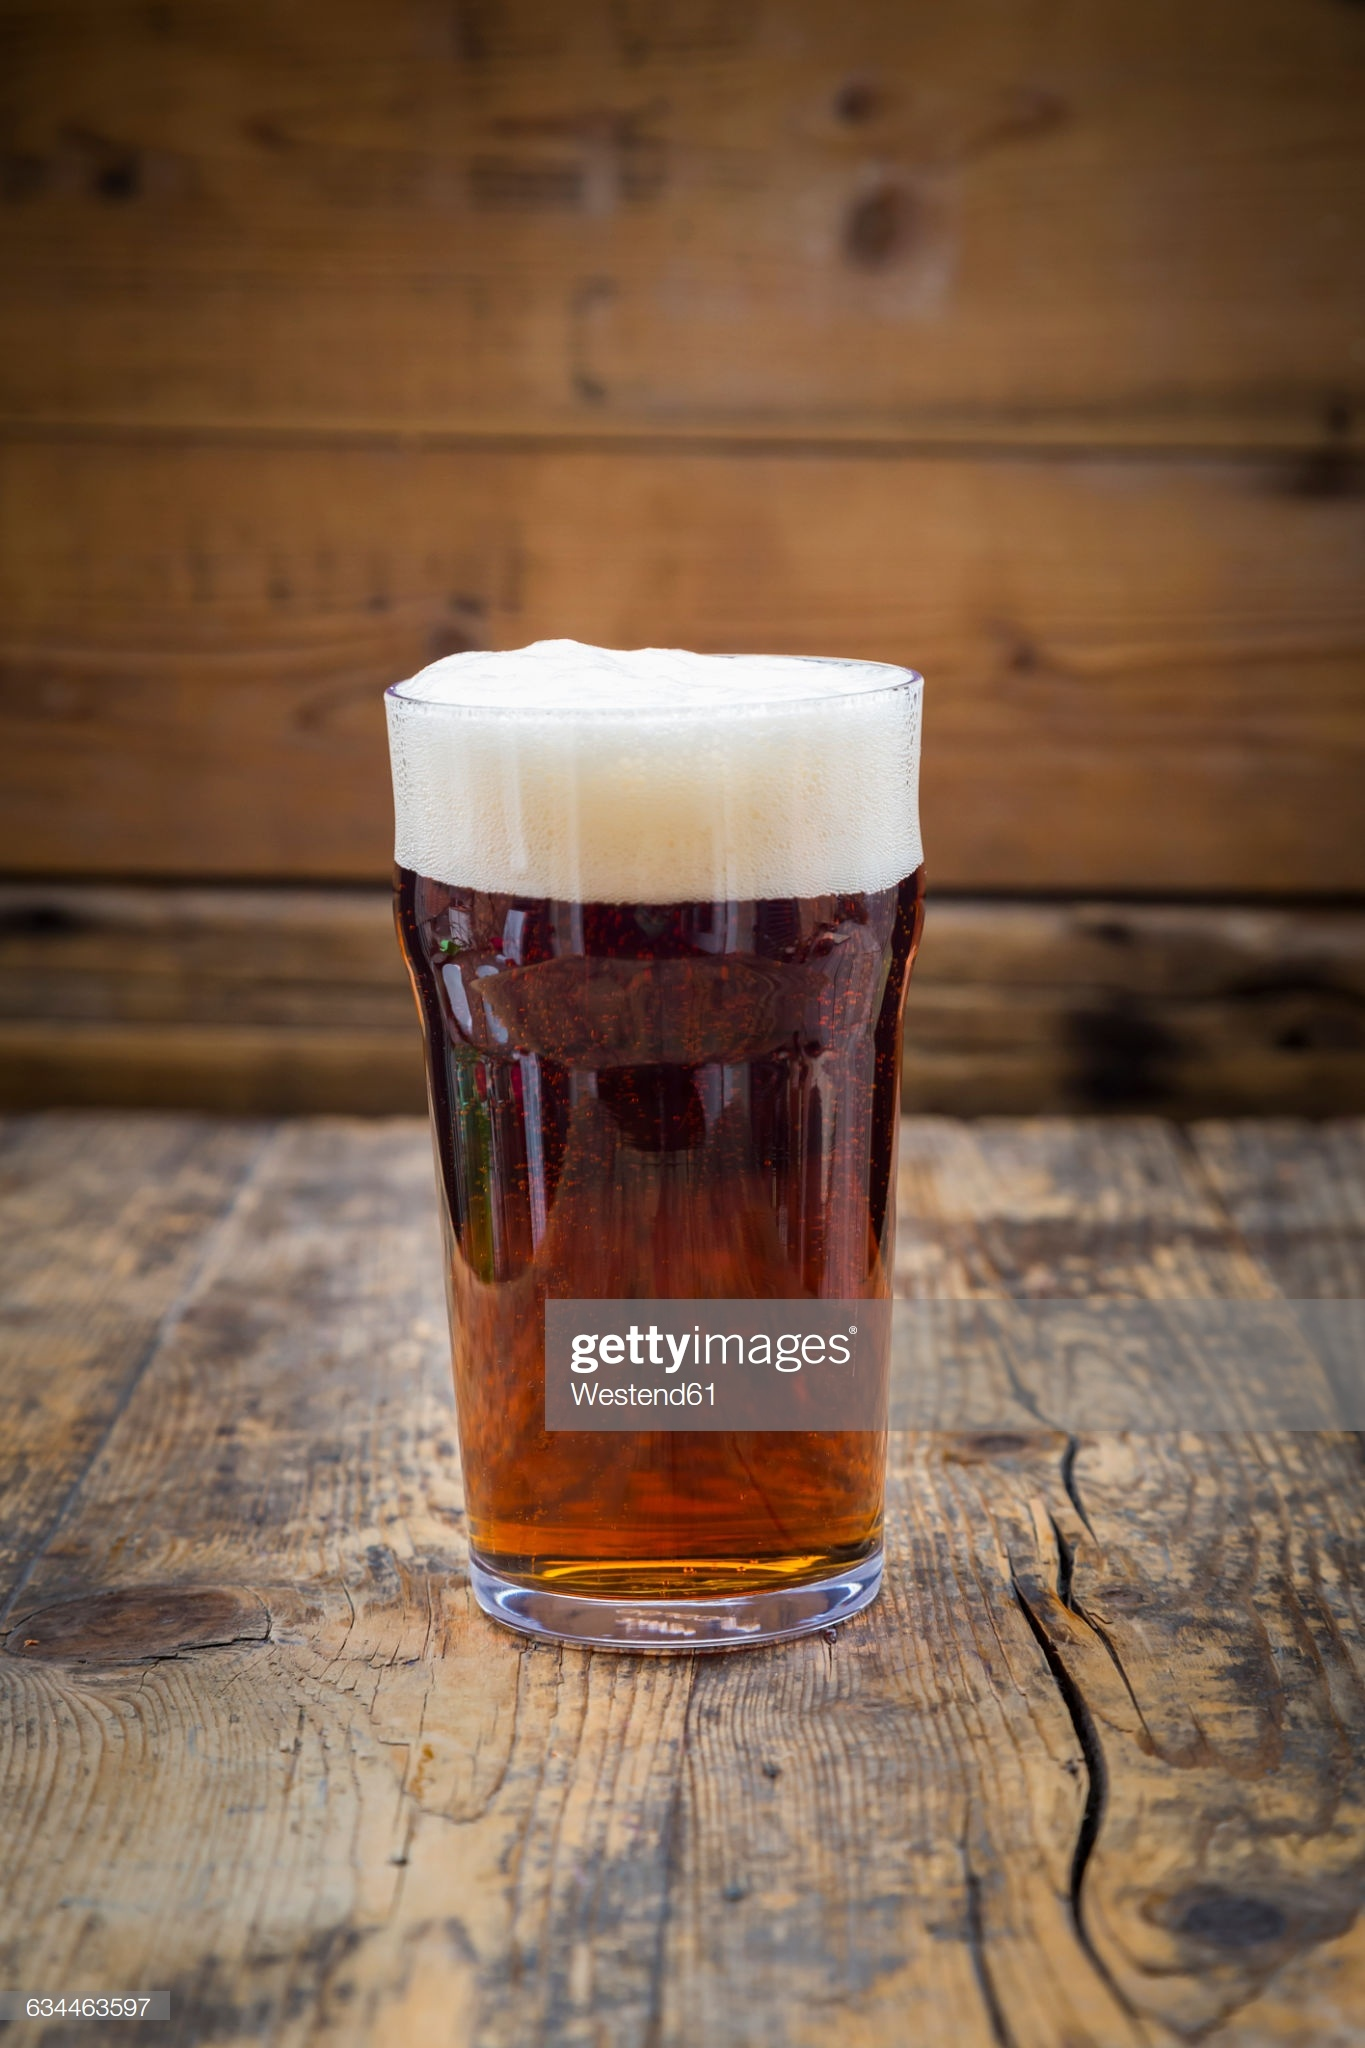glassBeer: (399, 646, 946, 1658)
